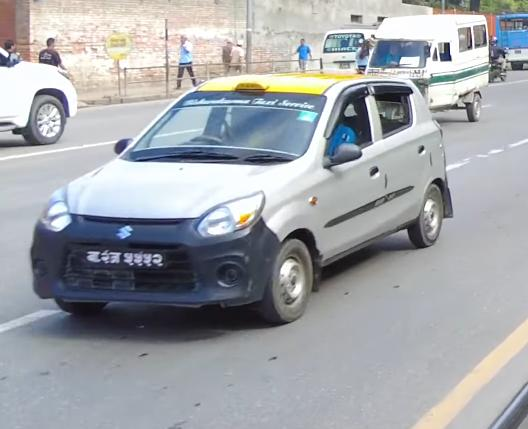bike: (485, 47, 512, 85)
bus: (495, 10, 528, 72)
car: (0, 37, 80, 151)
taxi: (31, 62, 468, 328)
tempo: (363, 11, 492, 129)
